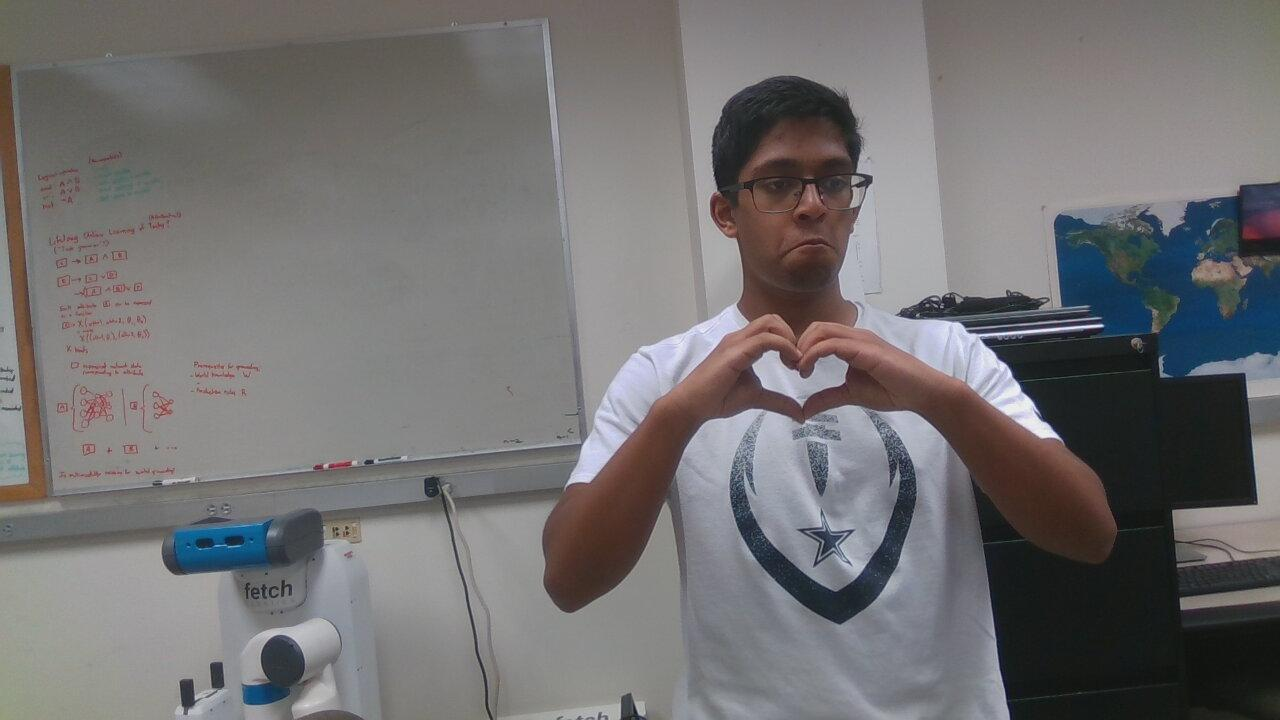hands: (699, 299, 904, 458)
